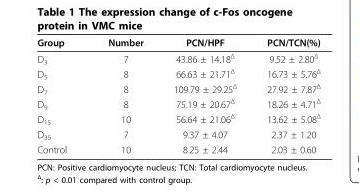table: (36, 36, 319, 154)
table column: (157, 36, 251, 154), (86, 36, 157, 154), (251, 36, 319, 154), (36, 36, 86, 154)
table column header: (36, 36, 319, 49)
table row: (36, 49, 319, 66), (36, 66, 319, 81), (36, 81, 319, 96), (36, 96, 319, 111), (36, 111, 319, 126), (36, 126, 319, 141), (36, 36, 319, 49), (36, 141, 319, 154)
